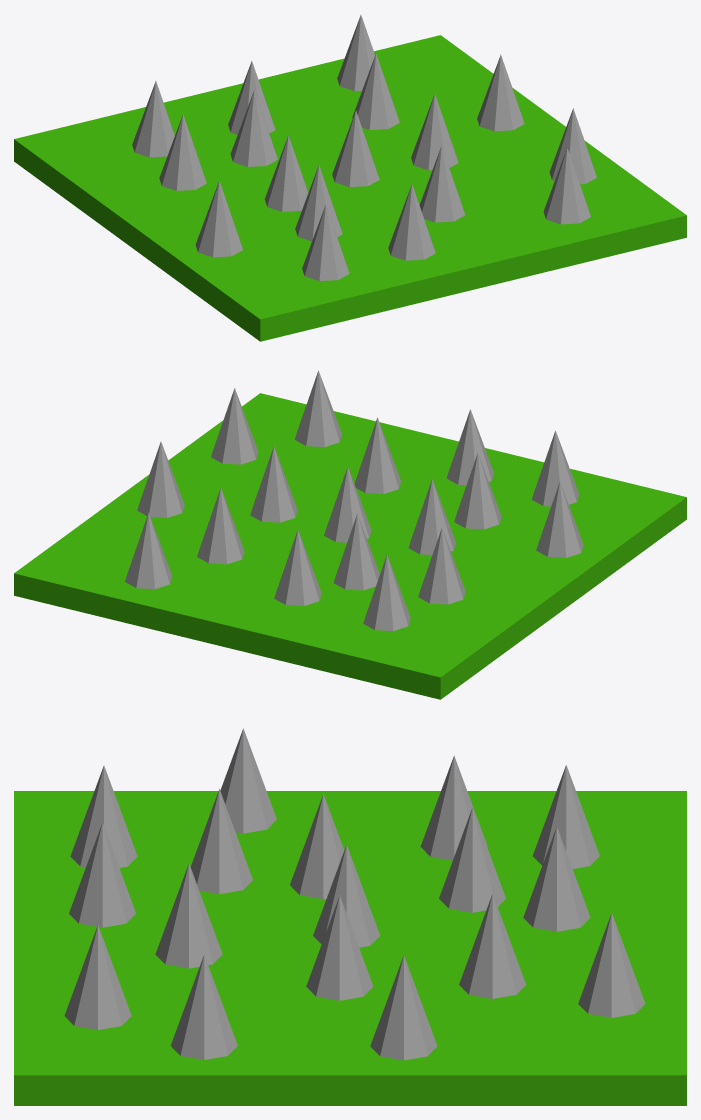
Rendered from Trap_ThornsFloor.fbx.
3 views of the same model, one above another, from view 1: azimuth 30°, elevation 25°; view 2: azimuth 150°, elevation 25°; view 3: azimuth 270°, elevation 25° (orthographic). The views are drawn at different scales.
Visible parts, largest first — view 1: ThornsFloor; view 2: ThornsFloor; view 3: ThornsFloor.
Part boxes in pixels (left/top/right/bottom): ThornsFloor: left=14, top=15, right=686, bottom=341; ThornsFloor: left=14, top=370, right=686, bottom=699; ThornsFloor: left=14, top=728, right=686, bottom=1105.
Size of the model in its own units: 0.2 by 0.0401 by 0.2.
